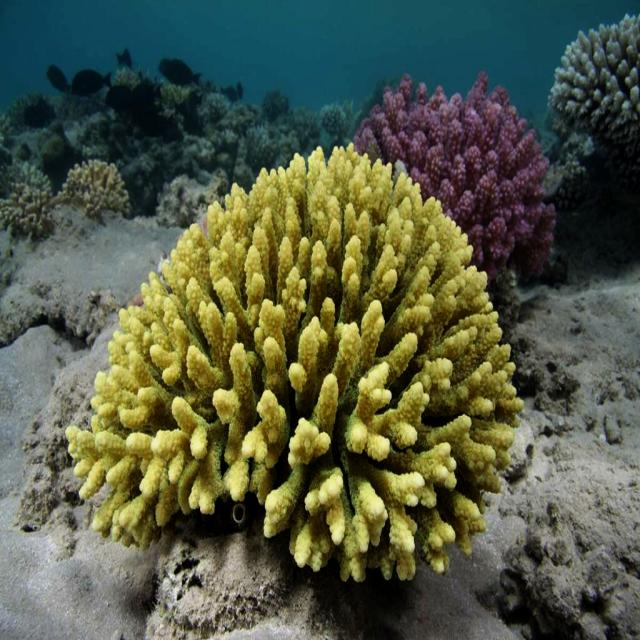Coral: (66, 143, 522, 582), (348, 70, 556, 288), (548, 14, 640, 192), (58, 158, 130, 219), (0, 182, 55, 239)
